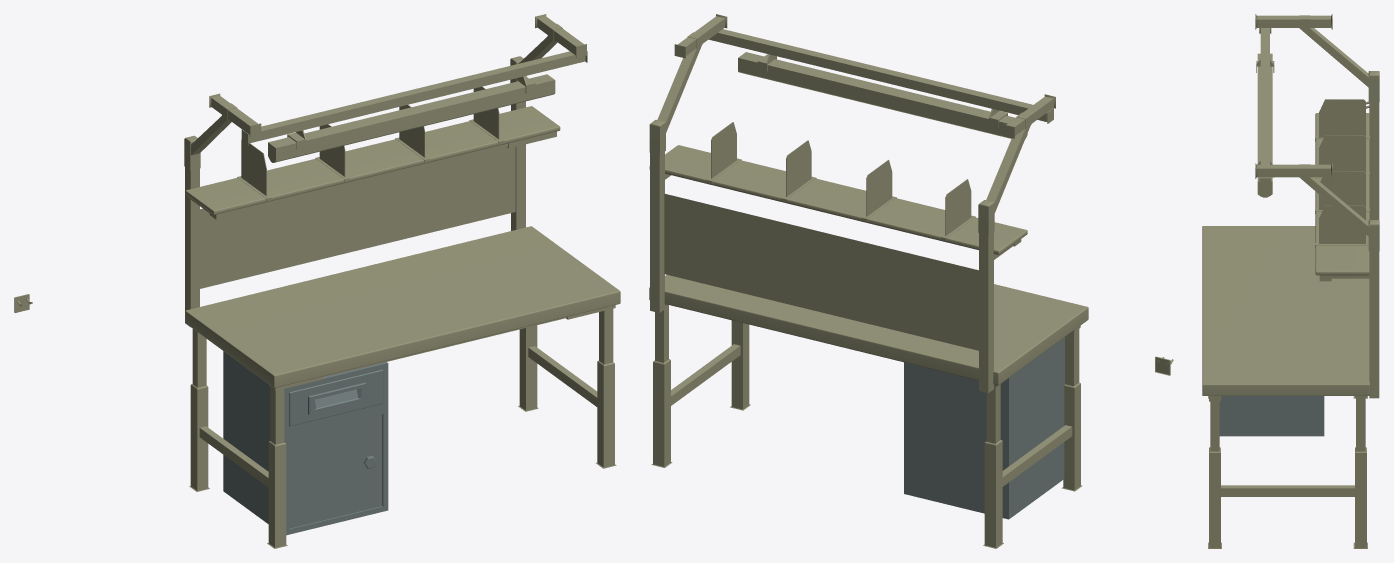
The model's file is SM_Table.fbx.
3 renders of one model, left to right at view 1: azimuth 30°, elevation 25°; view 2: azimuth 150°, elevation 25°; view 3: azimuth 270°, elevation 25°, orthographic. The views are drawn at different scales.
Parts seen in each view (by area): view 1: SM_TableBackboard, SM_Table_Basic, SM_Drawer, SM_Drawer_Handle; view 2: SM_TableBackboard, SM_Table_Basic, SM_Drawer; view 3: SM_Table_Basic, SM_TableBackboard, SM_Drawer.
Boxes of the visible parts, box(x1,y1,x2,y2) form: SM_TableBackboard: box(184, 14, 587, 326); SM_Table_Basic: box(185, 226, 620, 548); SM_Drawer: box(223, 351, 388, 535); SM_Drawer_Handle: box(289, 369, 383, 426); SM_TableBackboard: box(649, 14, 1055, 393); SM_Table_Basic: box(649, 275, 1088, 548); SM_Drawer: box(904, 337, 1064, 519); SM_Table_Basic: box(1202, 226, 1370, 548); SM_TableBackboard: box(1255, 14, 1379, 398); SM_Drawer: box(1219, 396, 1324, 436).
Size of the model in its own units: 230 by 172 by 73.1.
